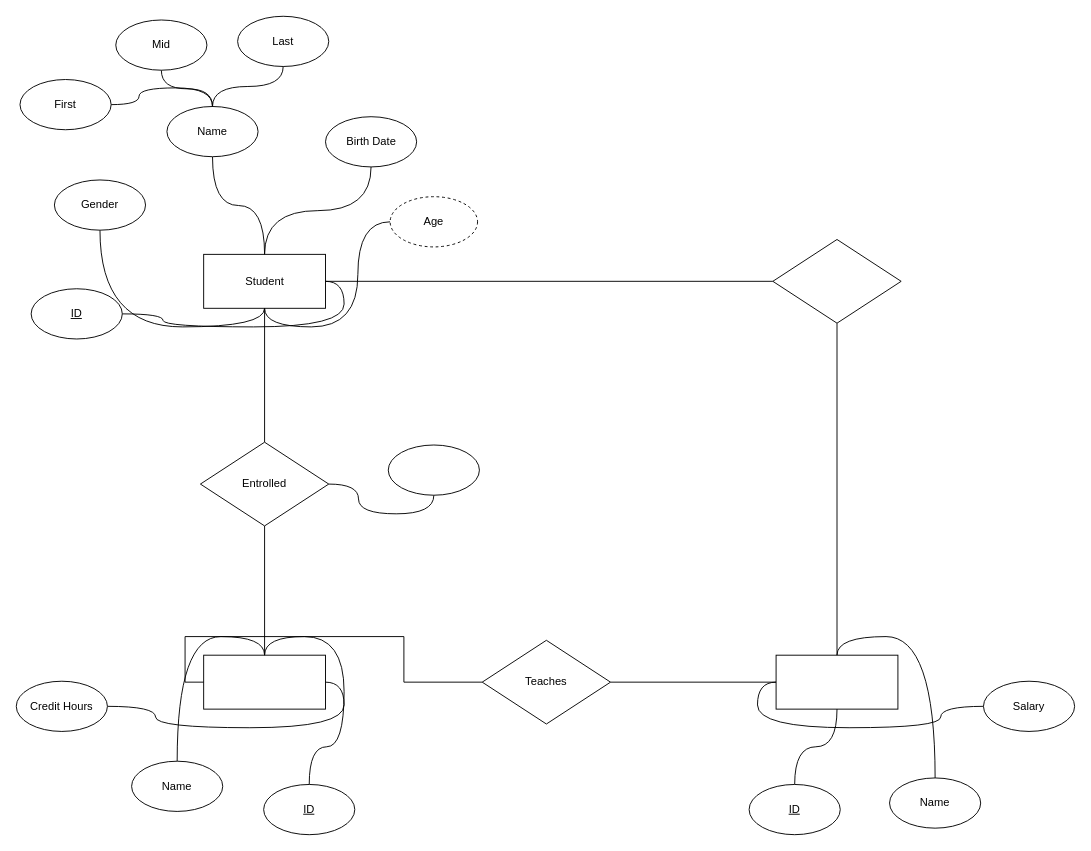
The diagram is 1091 pixels wide and 851 high, and some of its shapes have lost their labels. The centre of each missing label's shape, as x and y in pixels:
Coruse: point 264,681
Entroll Date: point 433,469
Mentor: point 836,281
Professor: point 836,681
